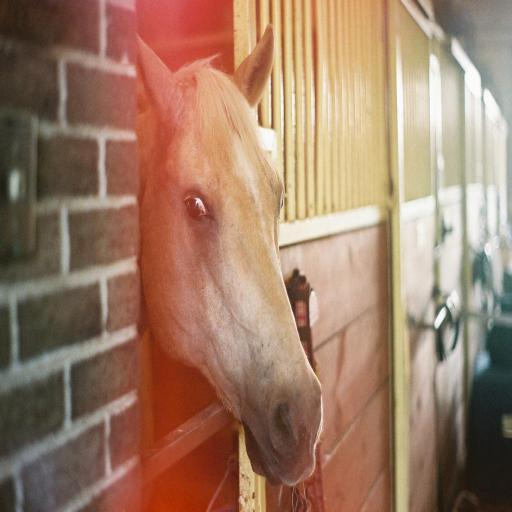horse: (131, 24, 325, 492)
